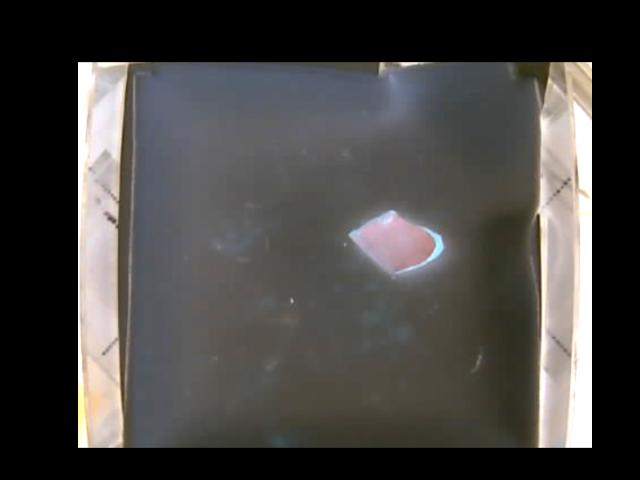China: (351, 209, 444, 271)
